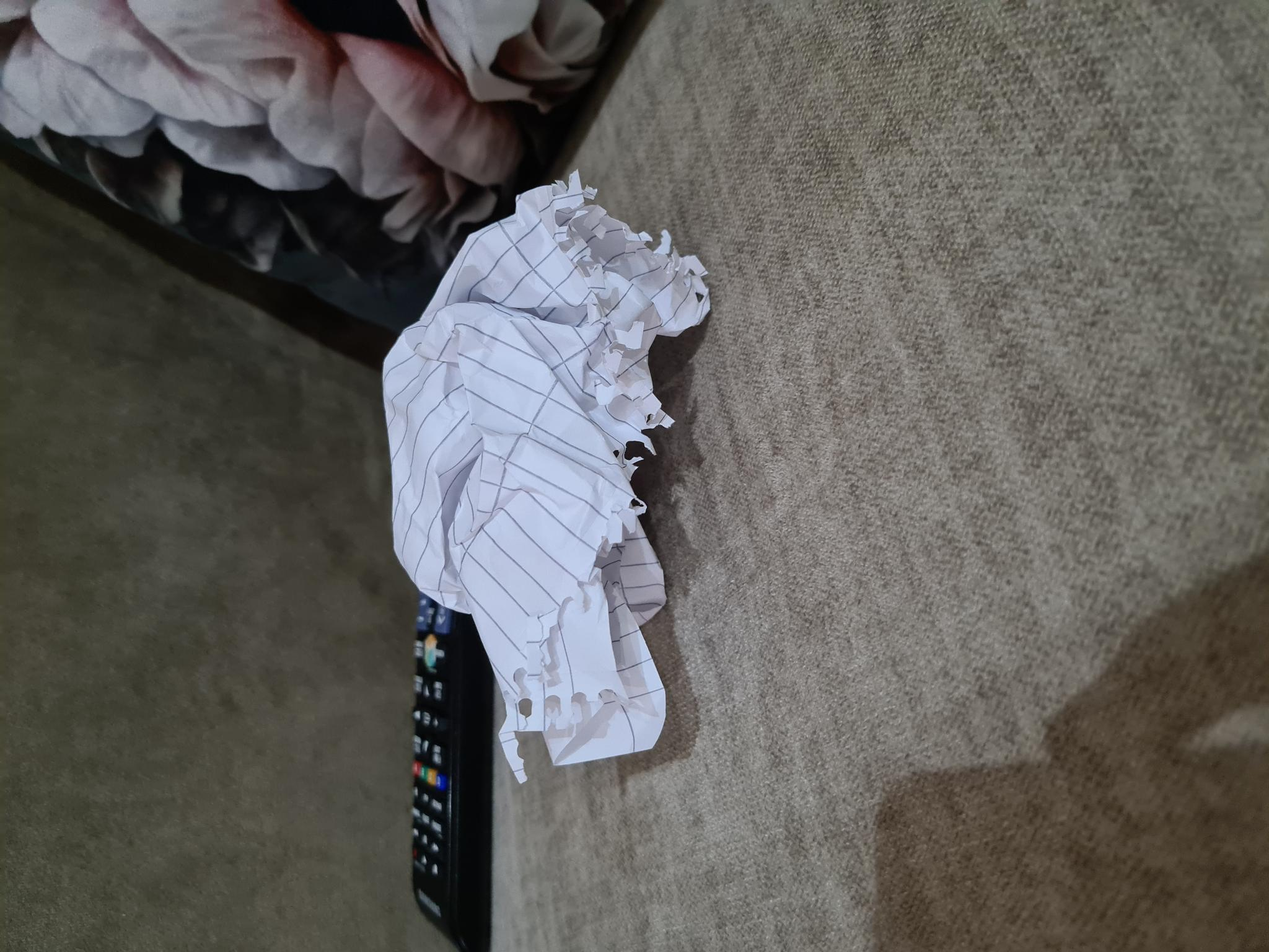Kertas: (173, 383, 774, 697)
